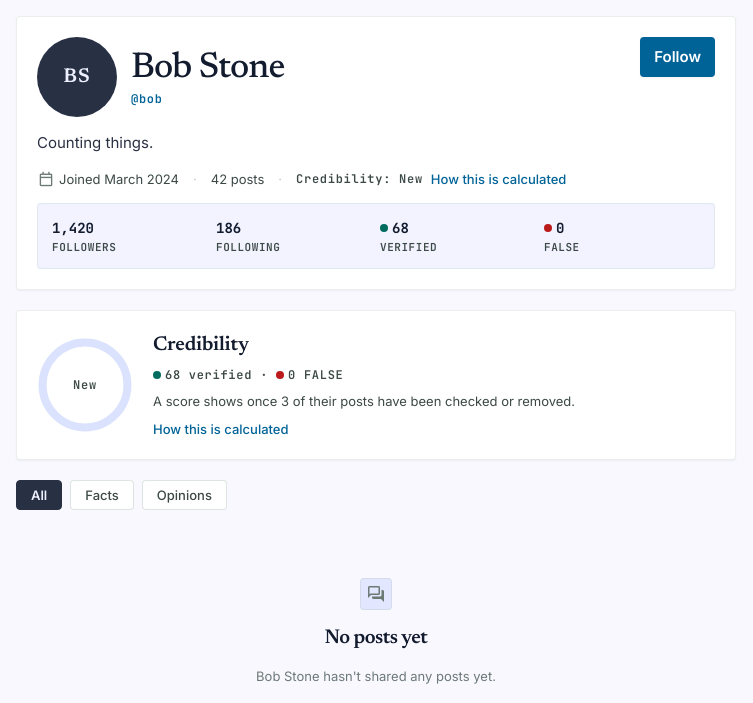
Test: ProfilePage: the post list › words the empty state for someone else, and for a filter
Expected: the heading "No posts yet" is shown, [325, 624, 427, 652]
Expected: the text "Bob Stone hasn't shared any posts yet." is shown, [256, 666, 496, 686]
What coordinates should you click on to do the following:
click the button "Facts"
I would click on:
 (102, 495)
Its box is [70, 480, 134, 510].
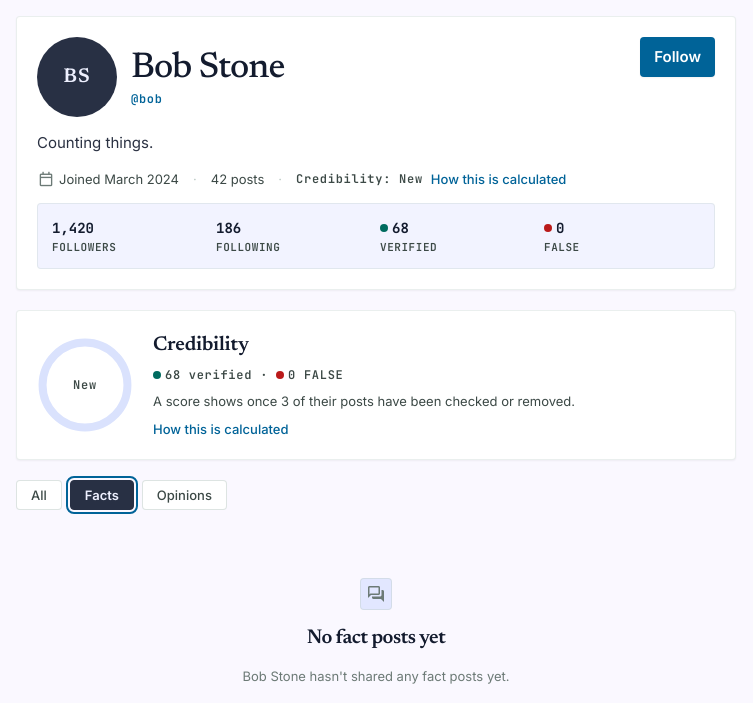
Expected: the heading "No fact posts yet" is shown, [307, 624, 445, 652]
